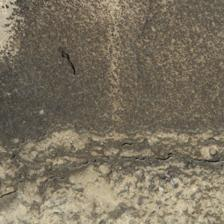Crack: (30, 70, 194, 107)
